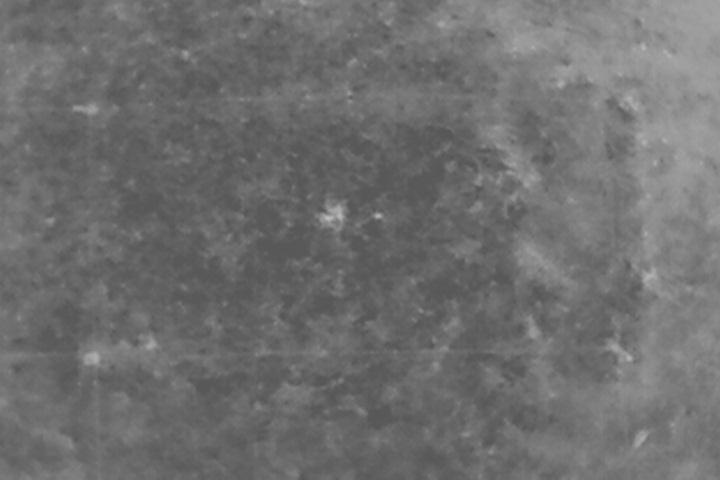landmine: (317, 197, 353, 232)
